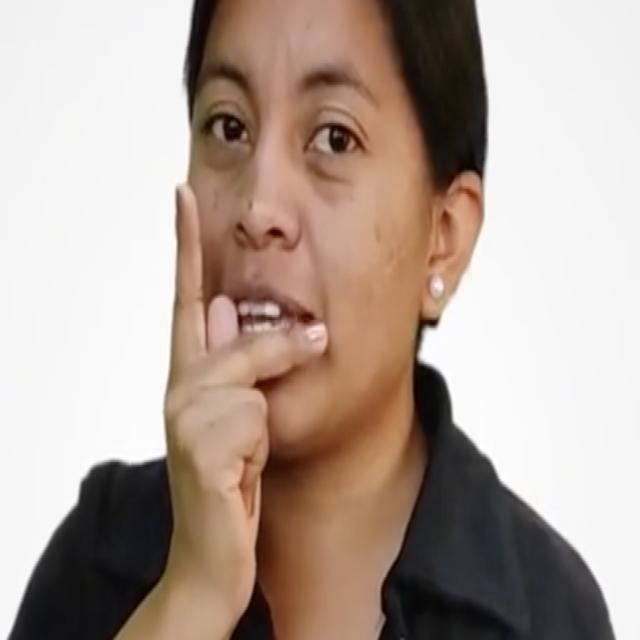PAPA: (130, 176, 332, 607)
